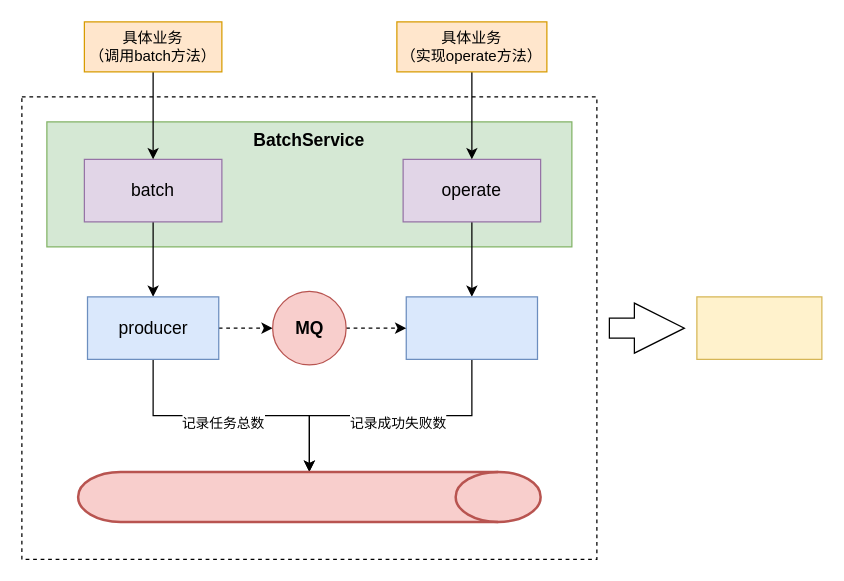
Image size: 844x581. Some labels were removed from this diagram. Each missing label, with the box of its shape:
consumer: (405, 296, 538, 359)
redis: (76, 470, 541, 522)
消息通知 飞书、邮件: (696, 296, 822, 359)
